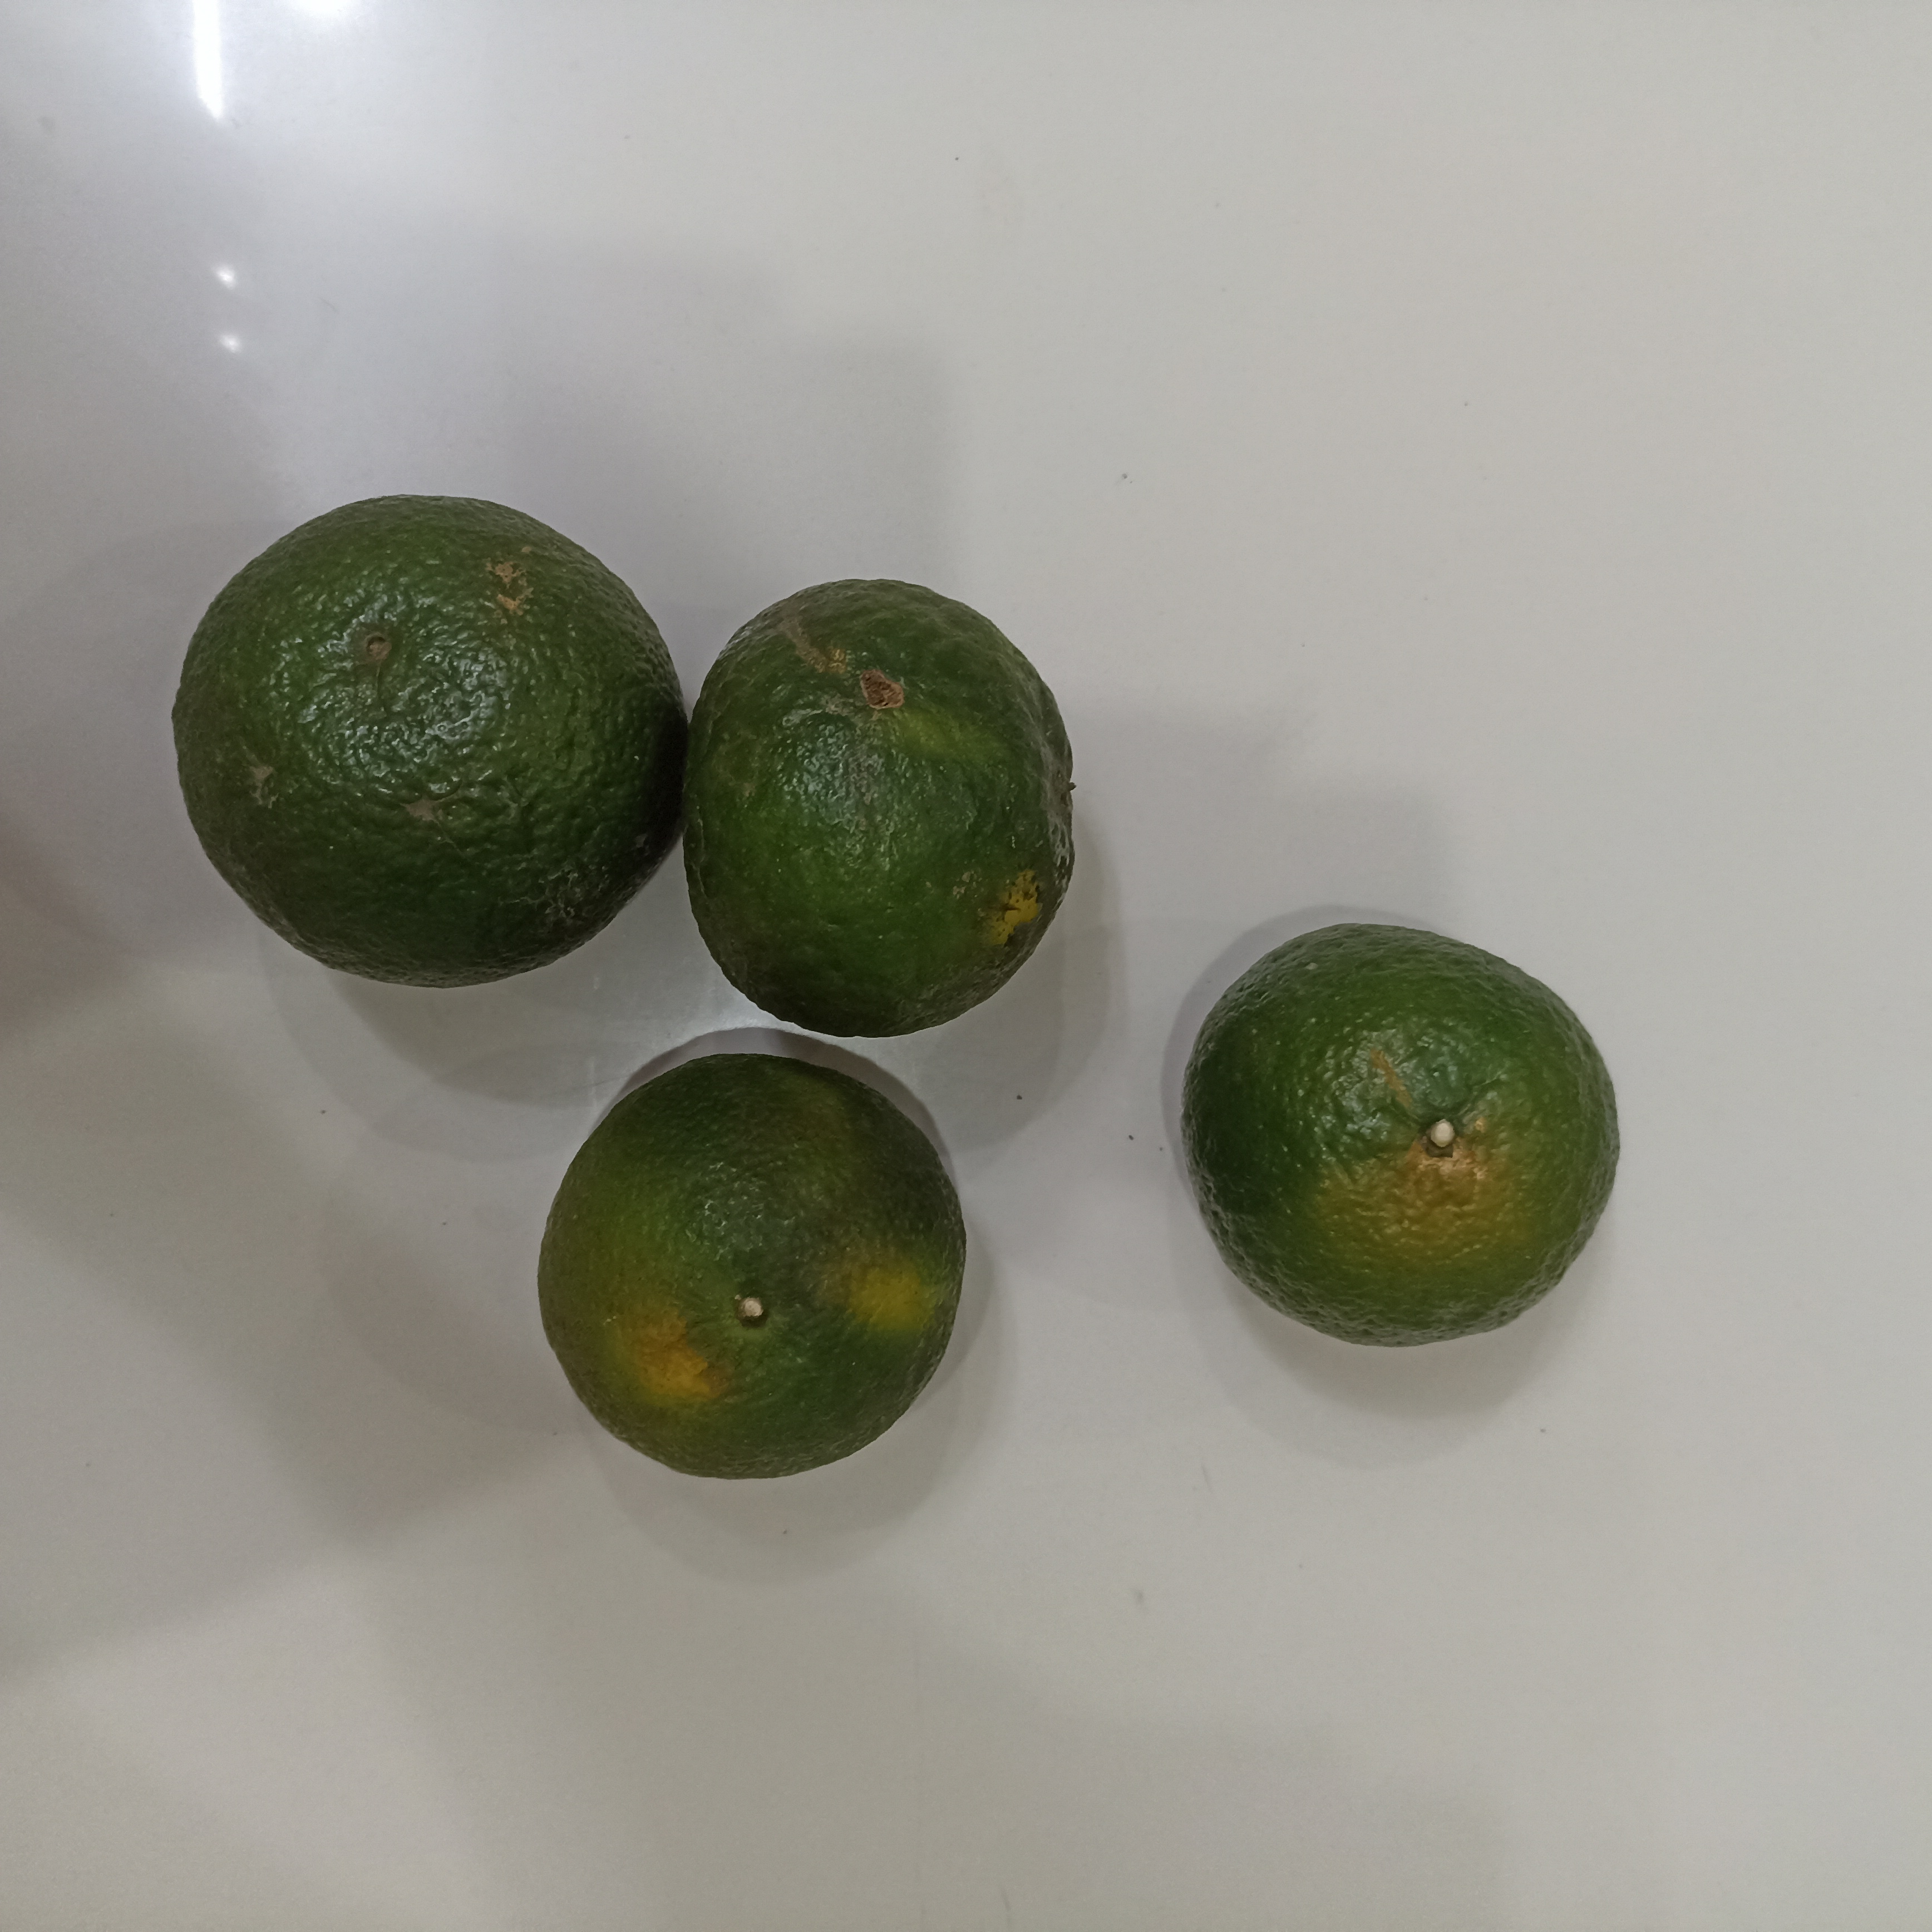Cam: (161, 487, 692, 991), (1177, 920, 1626, 1348), (527, 1053, 968, 1483), (676, 579, 1081, 1042)
